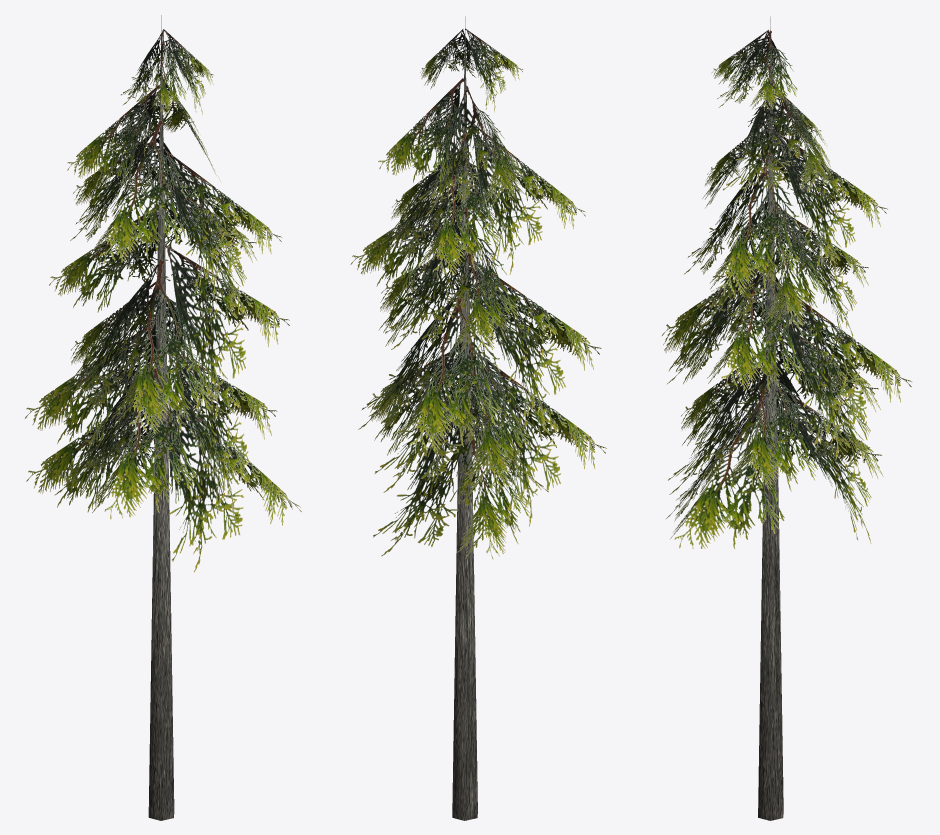
File: Tree-A-01.fbx
3 renders of one model, left to right at view 1: azimuth 30°, elevation 25°; view 2: azimuth 150°, elevation 25°; view 3: azimuth 270°, elevation 25°, orthographic.
Visible parts, largest first — view 1: Tree-A-01; view 2: Tree-A-01; view 3: Tree-A-01.
Boxes of the visible parts, bbox=[...] form: Tree-A-01: bbox=[25, 15, 301, 820]; Tree-A-01: bbox=[350, 16, 606, 820]; Tree-A-01: bbox=[662, 16, 912, 820].
Size of the model in its own units: 434 by 1496 by 469.
